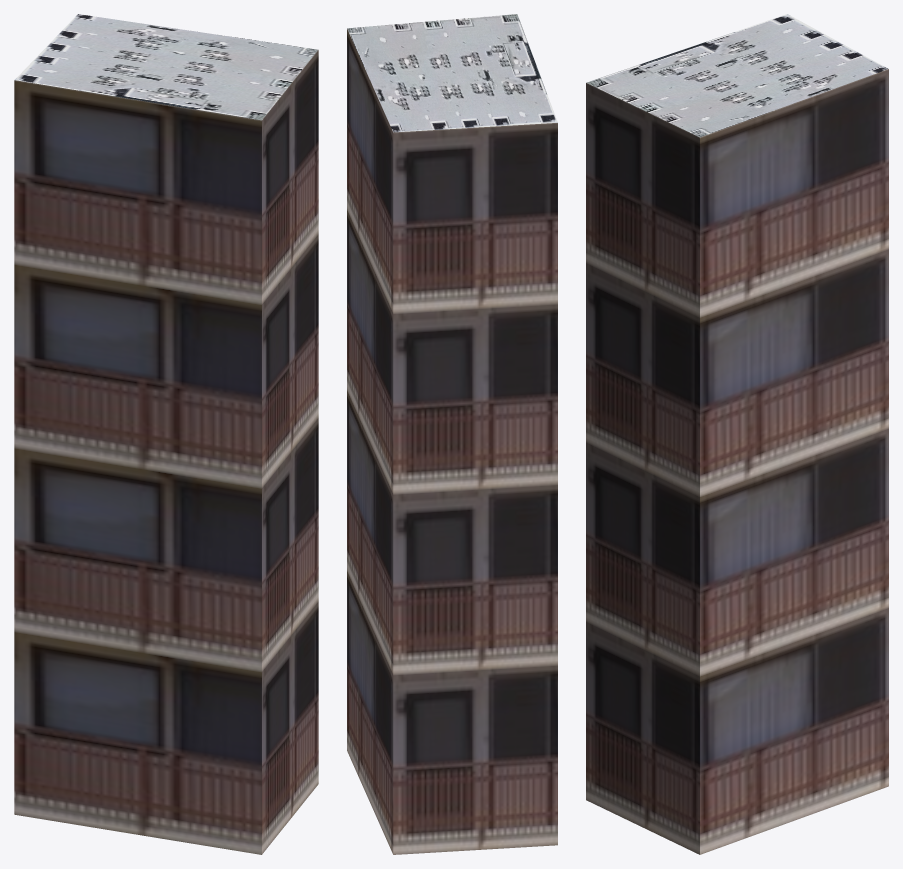
Rendered from ResTex__5240.fbx.
The picture shows the model from 3 angles, left to right: view 1: azimuth 30°, elevation 25°; view 2: azimuth 150°, elevation 25°; view 3: azimuth 270°, elevation 25°; orthographic projection. The views are drawn at different scales.
Visible parts, largest first — view 1: CityEngineMaterial_6_m, CityEngineMaterial_8_m; view 2: CityEngineMaterial_6_m, CityEngineMaterial_8_m; view 3: CityEngineMaterial_6_m, CityEngineMaterial_8_m.
Boxes of the visible parts, left/top/right/bottom form: CityEngineMaterial_6_m: left=14, top=50, right=318, bottom=854; CityEngineMaterial_8_m: left=14, top=14, right=317, bottom=120; CityEngineMaterial_6_m: left=347, top=29, right=557, bottom=854; CityEngineMaterial_8_m: left=347, top=14, right=557, bottom=132; CityEngineMaterial_6_m: left=586, top=69, right=888, bottom=854; CityEngineMaterial_8_m: left=586, top=14, right=888, bottom=137.
Bounding box in the file's own units: 4.43 × 12 × 4.59.
2 materials, 2 textured.
